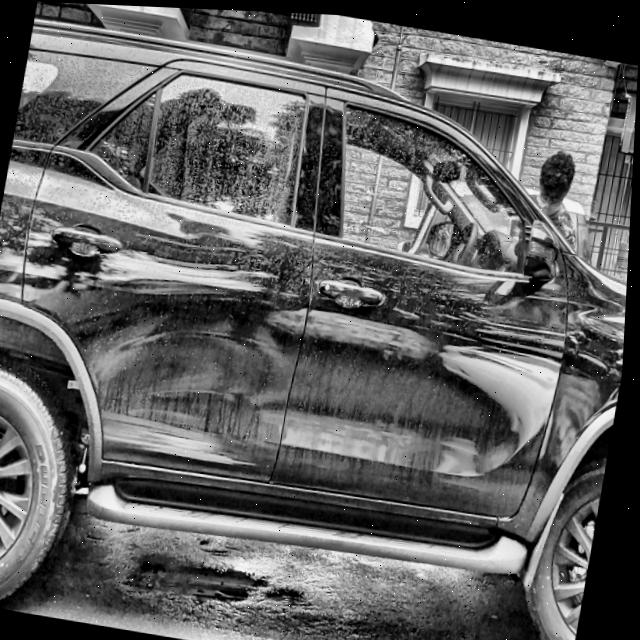light_vehicle: (0, 12, 640, 640)
